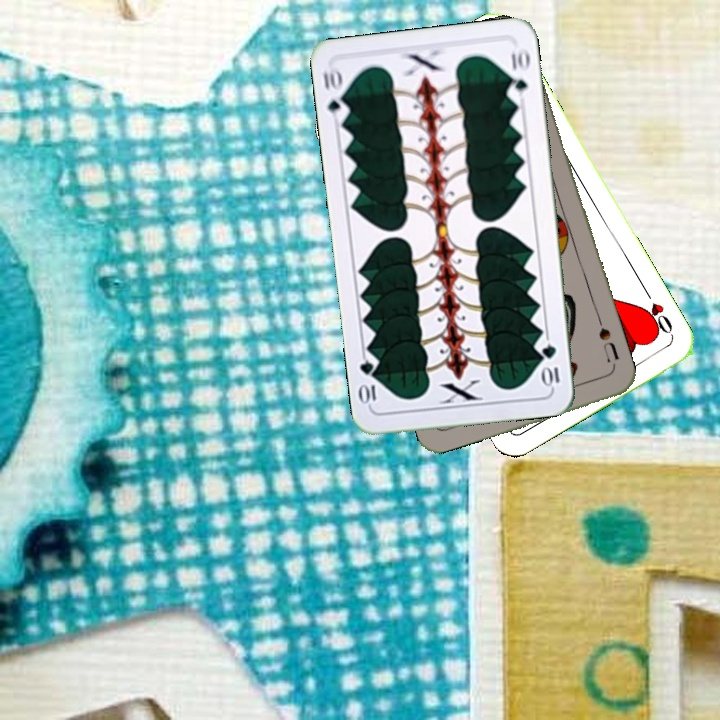G10: (319, 63, 351, 123), (538, 340, 562, 389)
HO: (638, 285, 676, 338)
SU: (594, 323, 622, 372)
